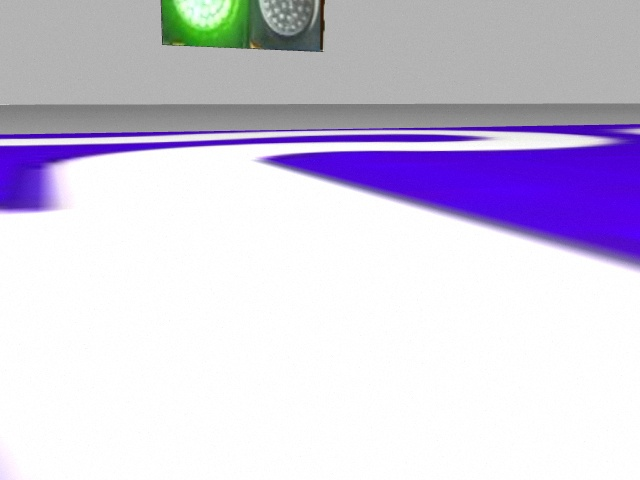green: (161, 1, 248, 46)
